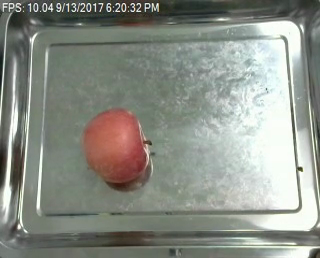Apple: (79, 105, 149, 190)
